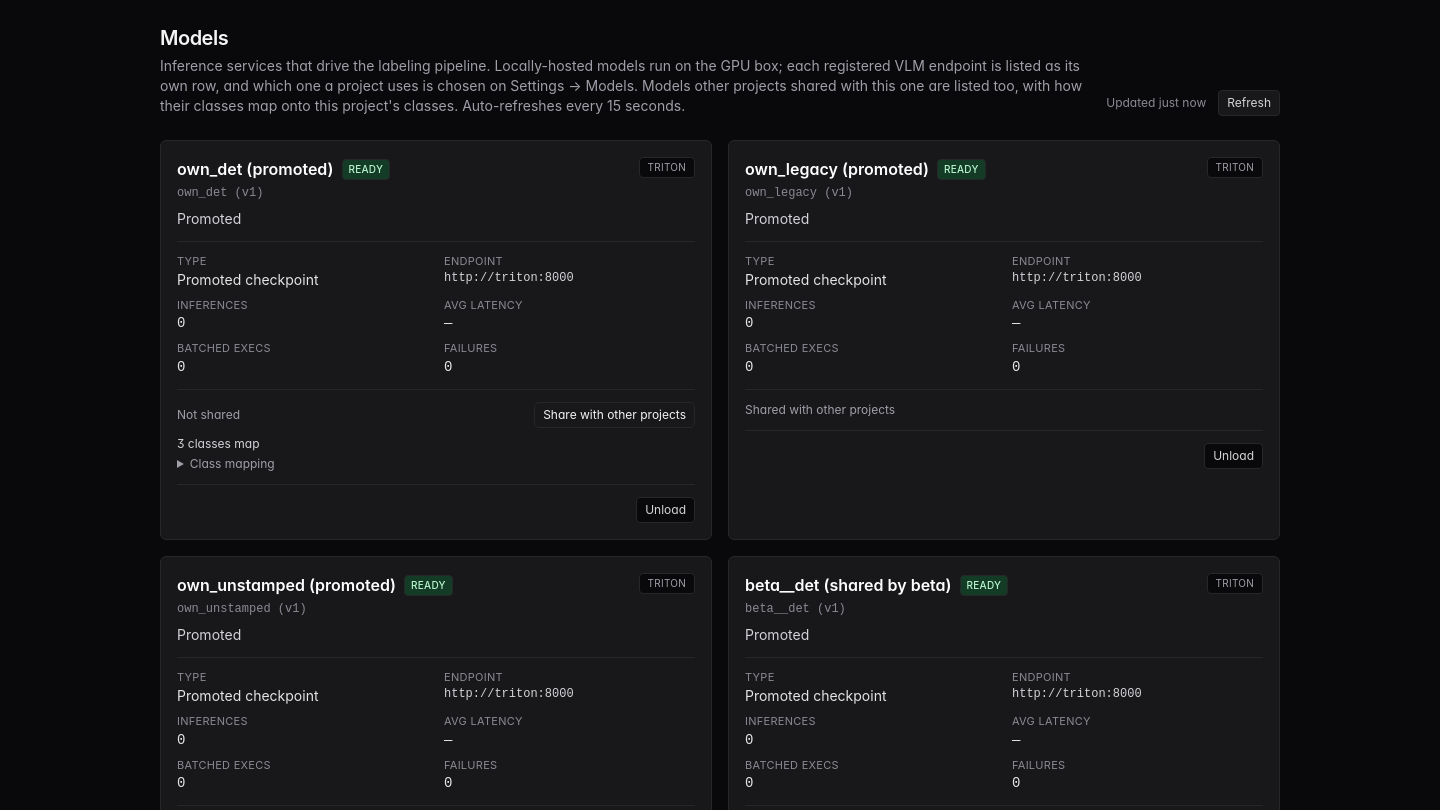
Test: /models sharing › a 503 while sharing (not unsharing) offers no force
The image size is (1440, 810).
Click the button "Share with other projects" at coordinates (615, 415), box [534,402,695,428]
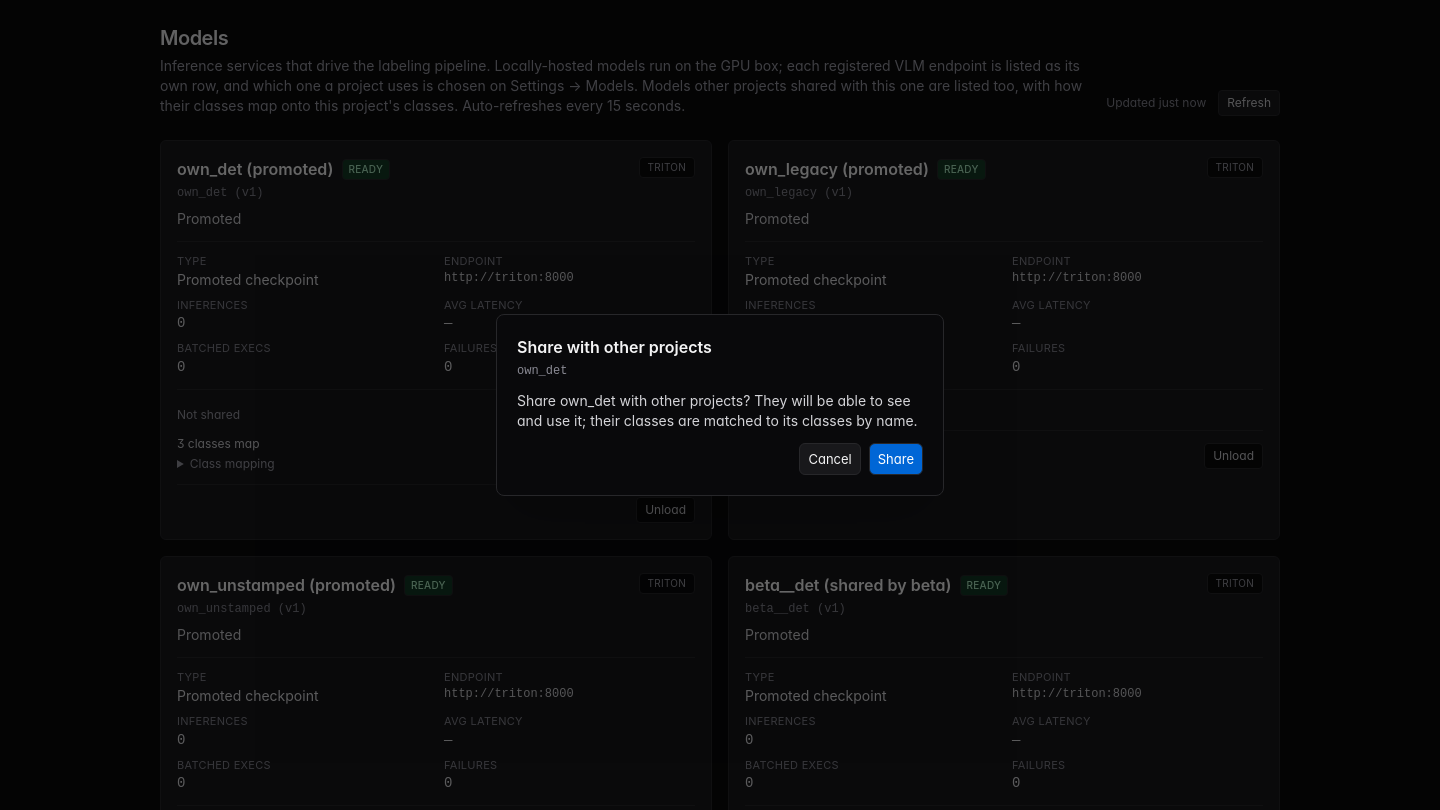
Click the button "Share" at coordinates (896, 459), box [869,443,923,475]
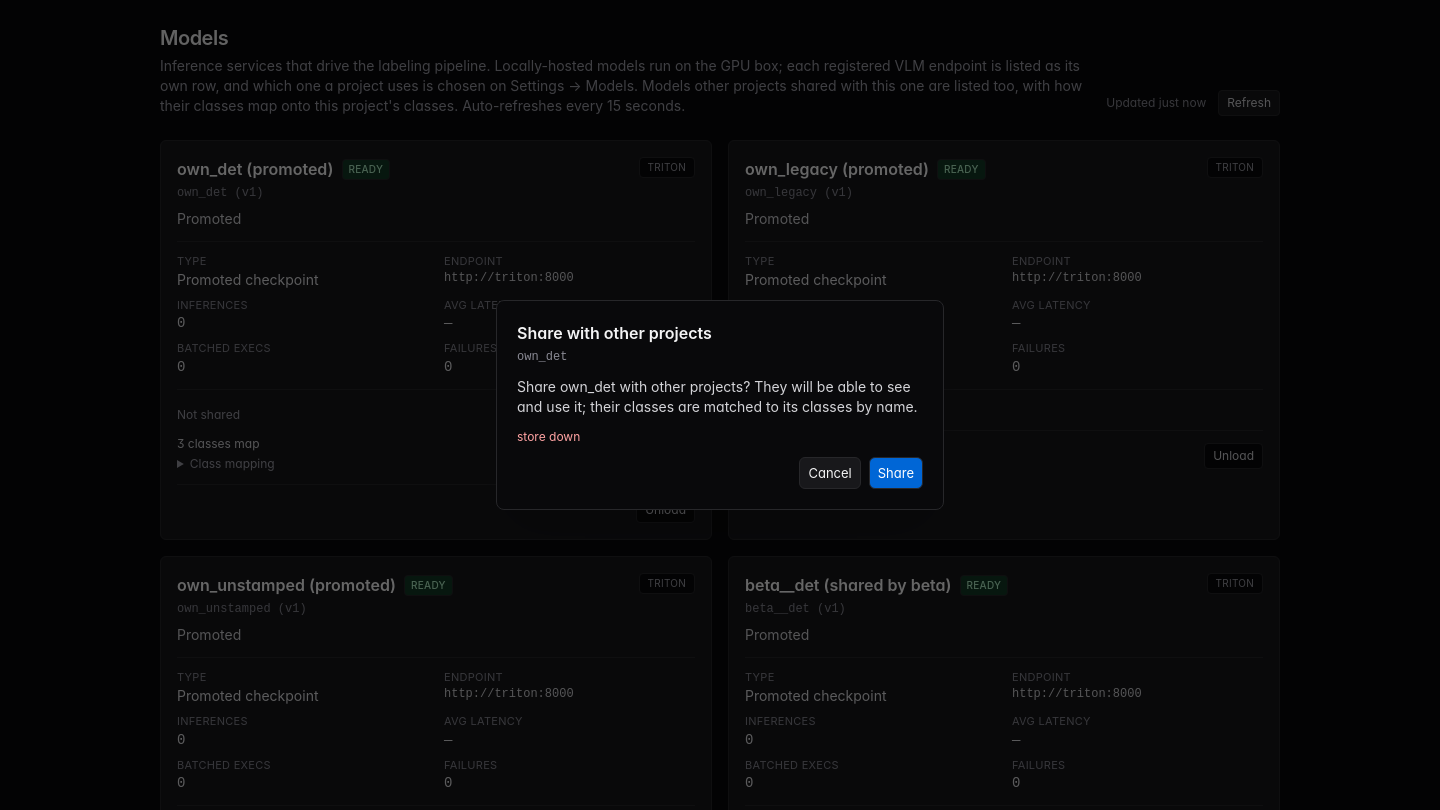
Expected: the element showing "store down" is shown, [517,429,580,444]
